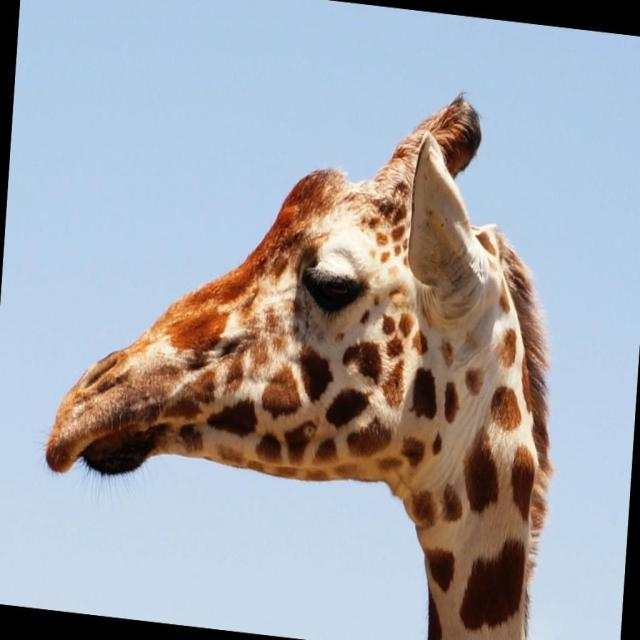Giraffe: (36, 81, 565, 640)
